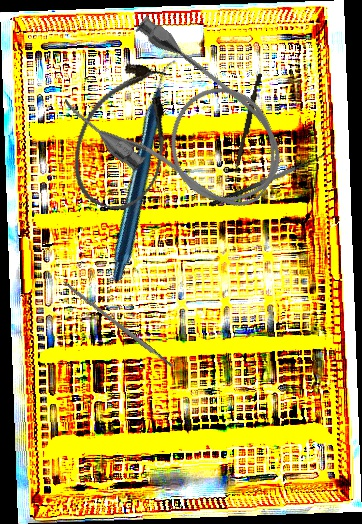Cannula: (55, 6, 307, 242), (59, 52, 191, 221)
Handpiece: (30, 58, 261, 284)
Pusher: (233, 72, 263, 175)
Scalpel Handle: (61, 279, 176, 371)
Spatula Surgical: (205, 144, 331, 208)
